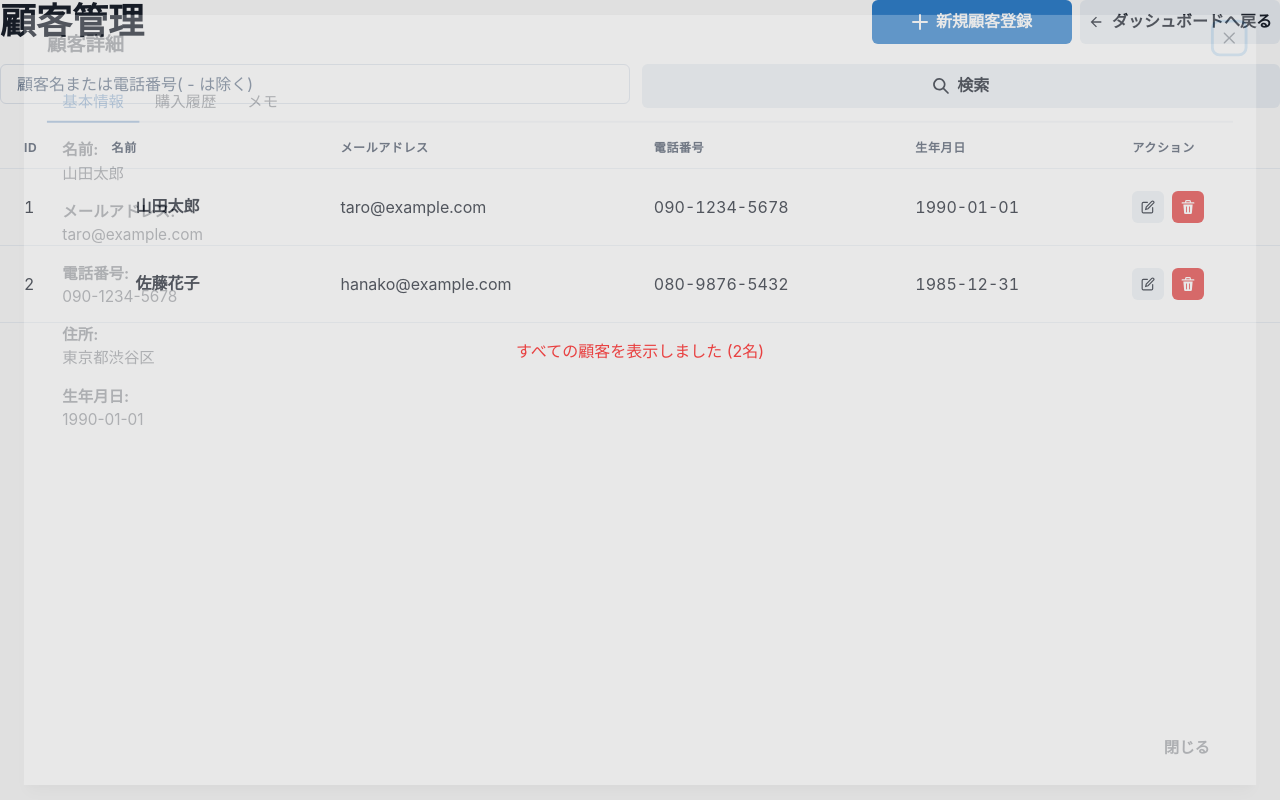
CustomerManagementTemplate コンポーネント › モバイル表示時の動作が正しく機能する
The width and height of the screenshot is (1280, 800).
Click the tab "購入履歴".
click(186, 102)  # box [139,82,232,123]
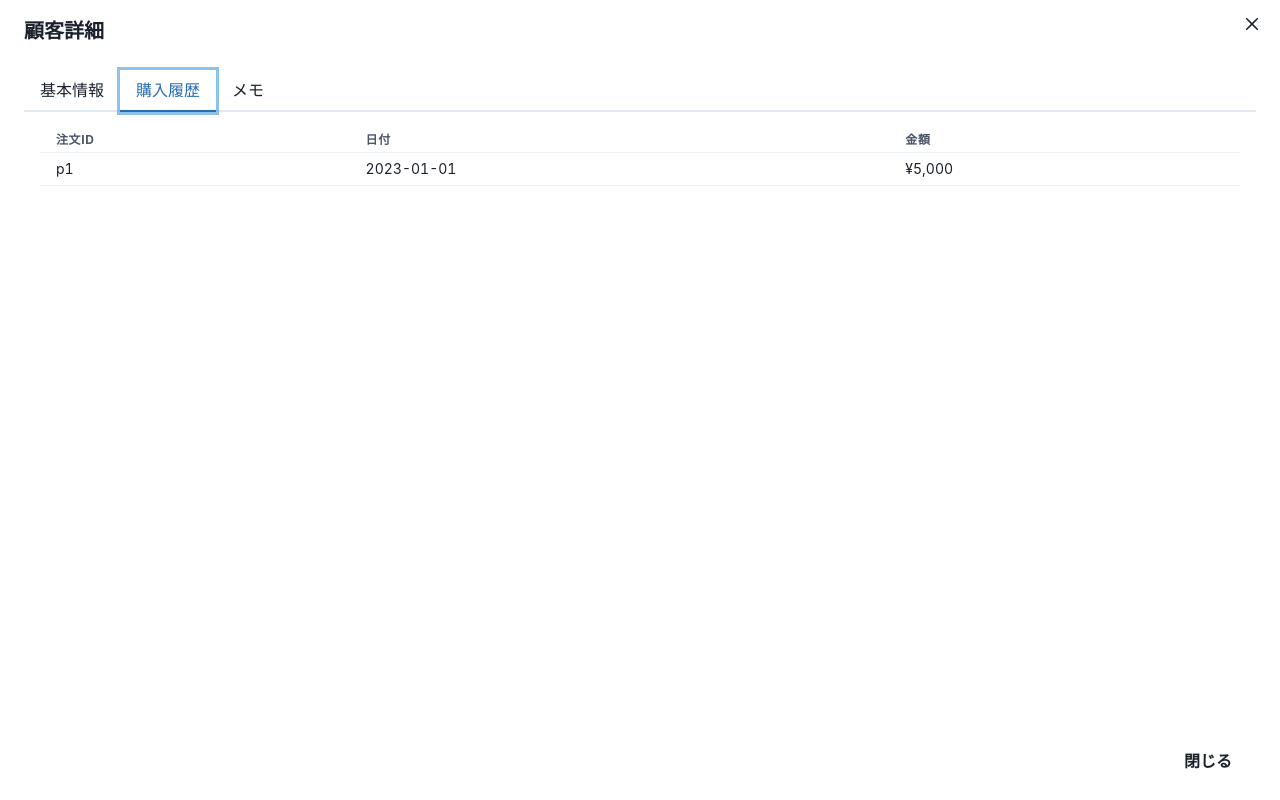
expect the cell "¥5,000" is shown: met, box [889,152,1240,186]
